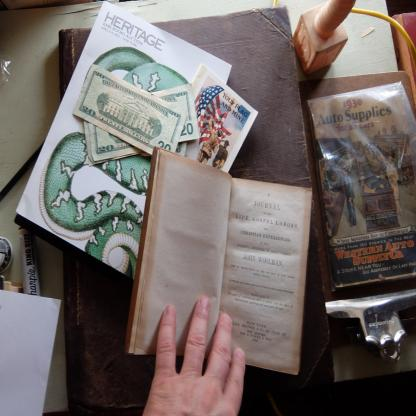book: (126, 166, 328, 376)
